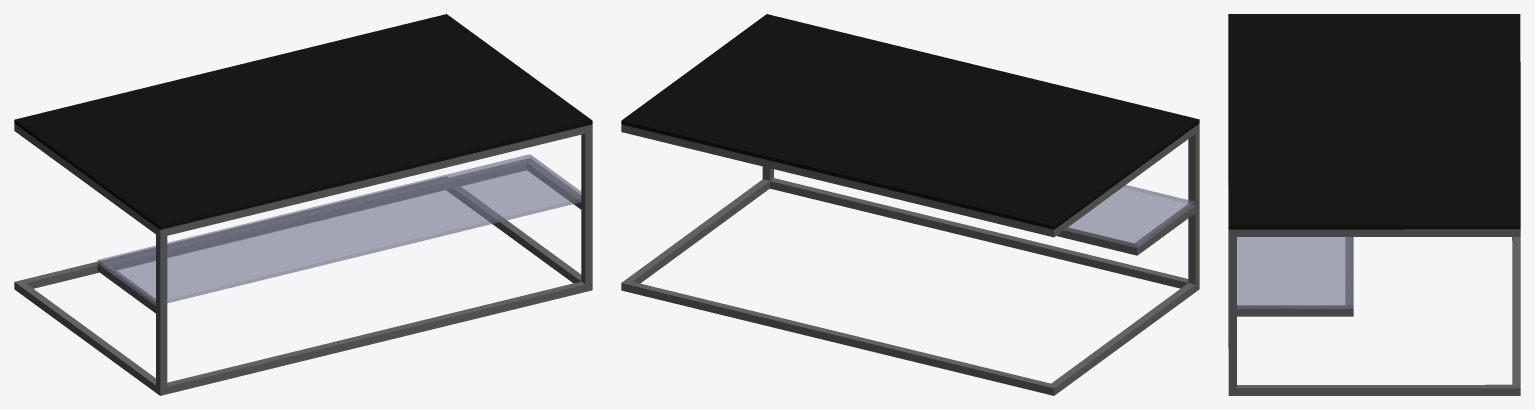
The model's file is coffeeTable.obj.
3 views of the same model, side by side, from view 1: azimuth 30°, elevation 25°; view 2: azimuth 150°, elevation 25°; view 3: azimuth 270°, elevation 25° (orthographic).
Parts seen in each view (by area): view 1: table; view 2: table; view 3: table.
Part boxes in pixels (x1,y1,x2,y2): table: [14, 14, 592, 395]; table: [621, 14, 1199, 395]; table: [1228, 14, 1520, 395].
Size of the model in its own units: 120 by 45 by 70.08.
